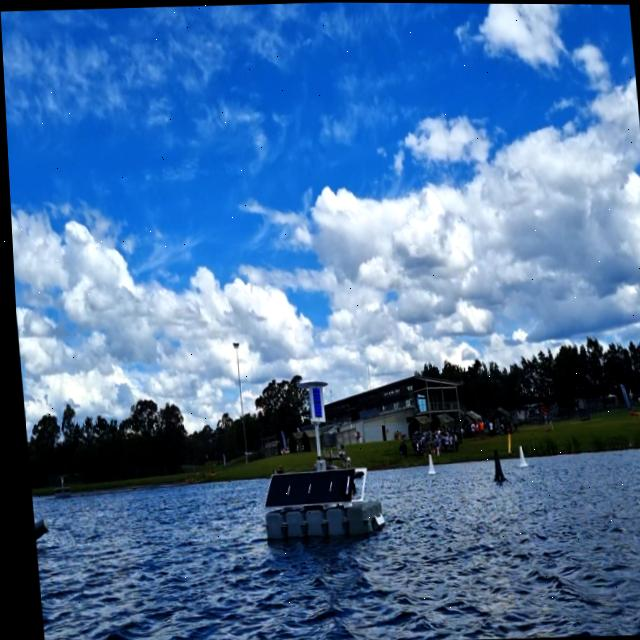led: (306, 384, 320, 420)
